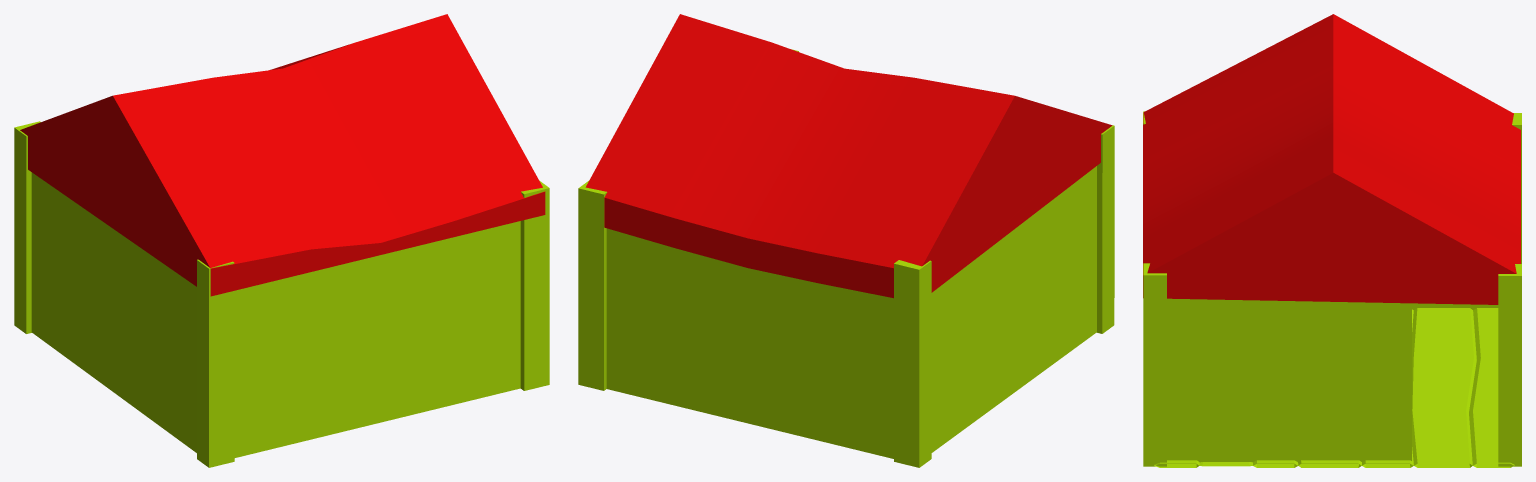
The model's file is nana_interior_empty.fbx.
The picture shows the model from 3 angles, left to right: view 1: azimuth 30°, elevation 25°; view 2: azimuth 150°, elevation 25°; view 3: azimuth 270°, elevation 25°; orthographic projection. The views are drawn at different scales.
Parts seen in each view (by area): view 1: house, ceiling; view 2: ceiling, house; view 3: ceiling, house.
Part boxes in pixels (x1,y1,x2,y2): house: (14, 121, 549, 467); ceiling: (20, 14, 545, 296); ceiling: (585, 14, 1112, 298); house: (578, 49, 1114, 467); ceiling: (1143, 14, 1520, 304); house: (1143, 111, 1521, 467).
Bounding box in the file's own units: 96.9 × 81.49 × 95.41.
